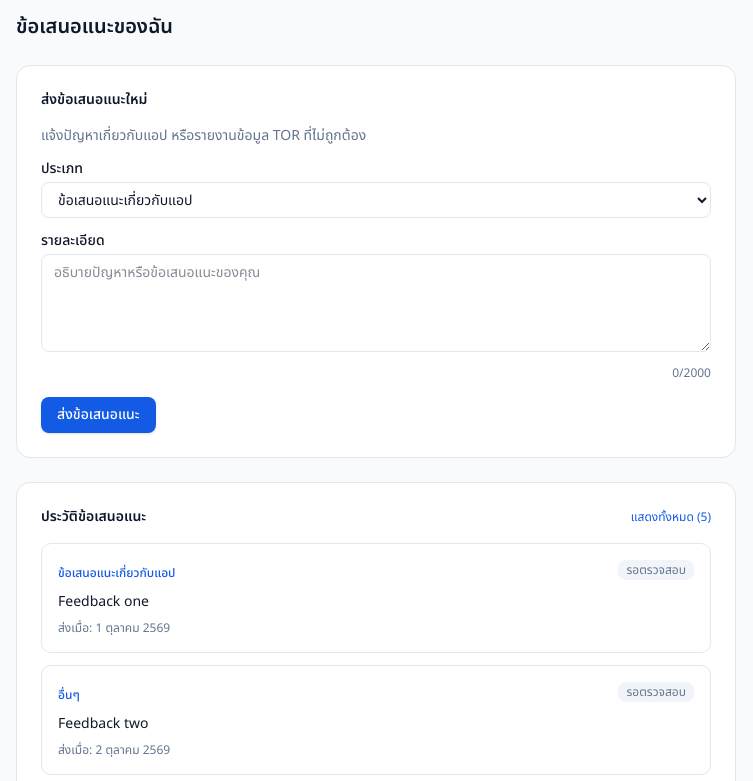
Scenario: My Feedback page › requires selecting a TOR for a TOR-specific report
This screenshot has width=753, height=781.
Expected: the text "Feedback one" is shown, [58,591,149,612]
Select "ข้อมูล TOR ไม่ถูกต้อง" in the dropdown labelled "ประเภท": (376, 200) [41,182,711,218]
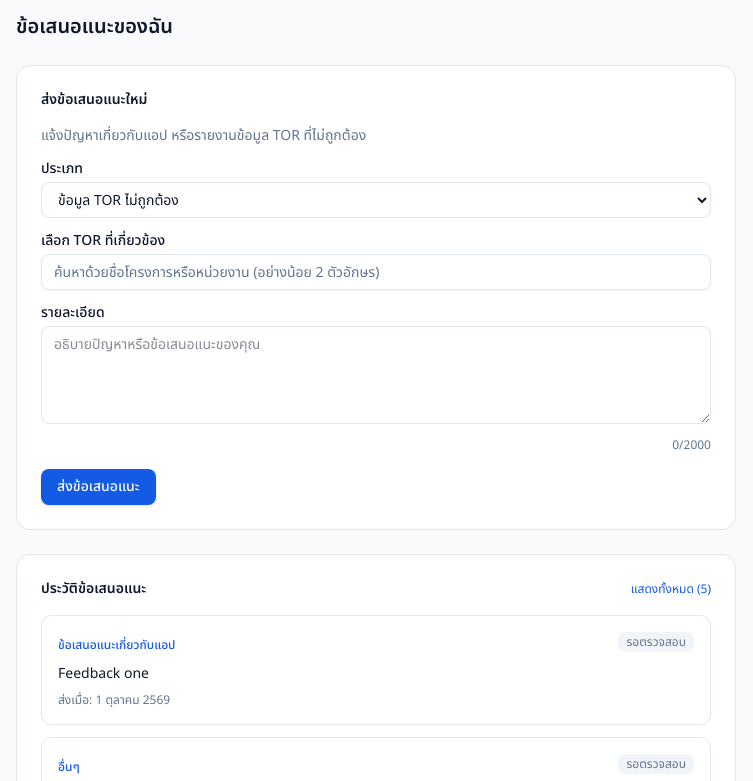
In the text box labelled "รายละเอียด": (376, 375) [41,326,711,424], type "The project agency is incorrect"
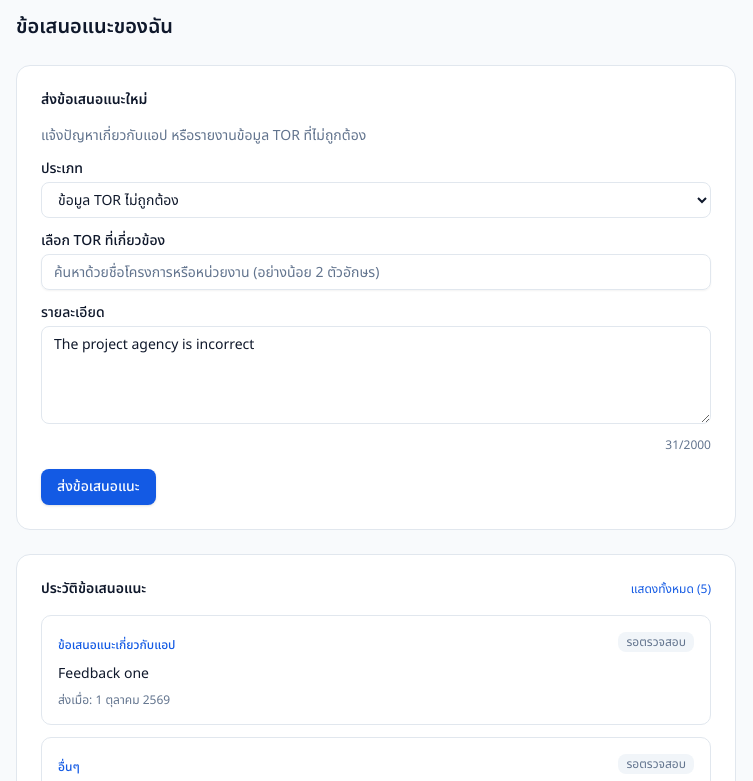
Click the button "ส่งข้อเสนอแนะ": click(98, 487) [41,469,156,505]
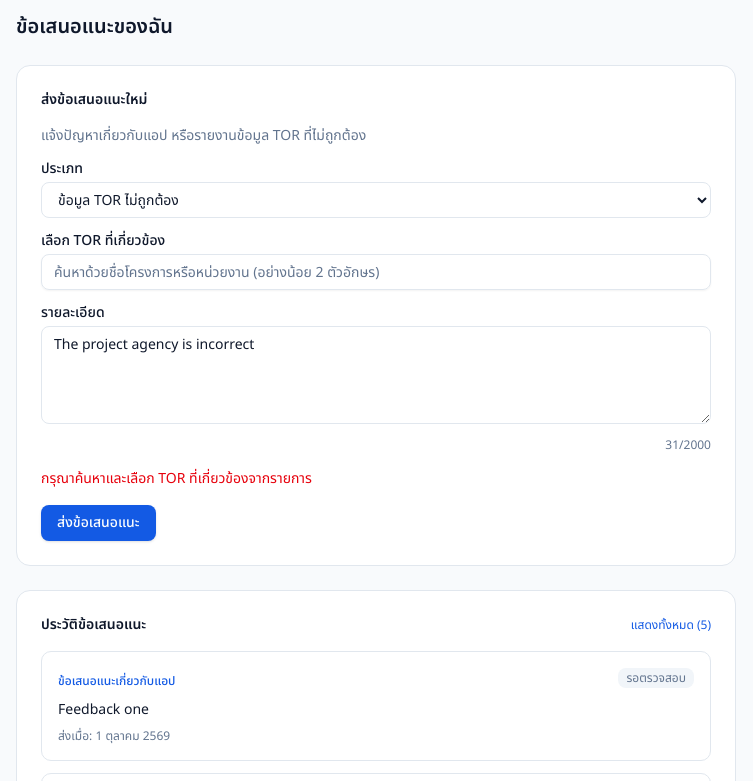
Now the text "กรุณาค้นหาและเลือก TOR ที่เกี่ยวข้องจากรายการ" is shown, box [41,468,312,489]
